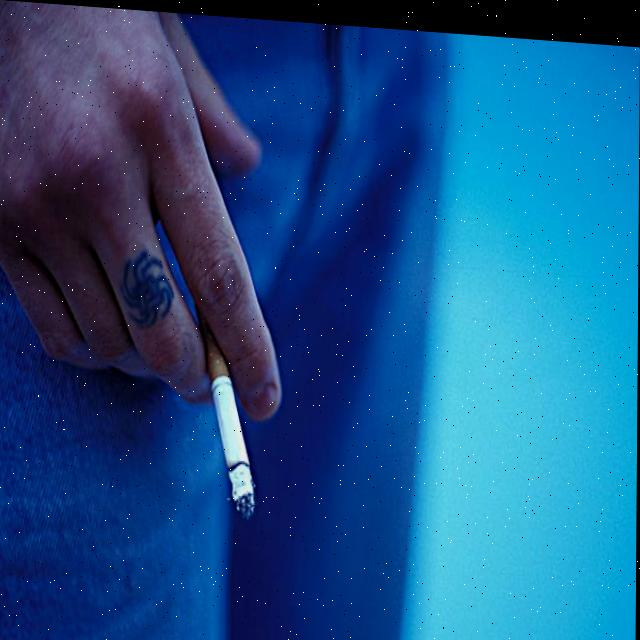cigarette: (200, 310, 260, 517)
